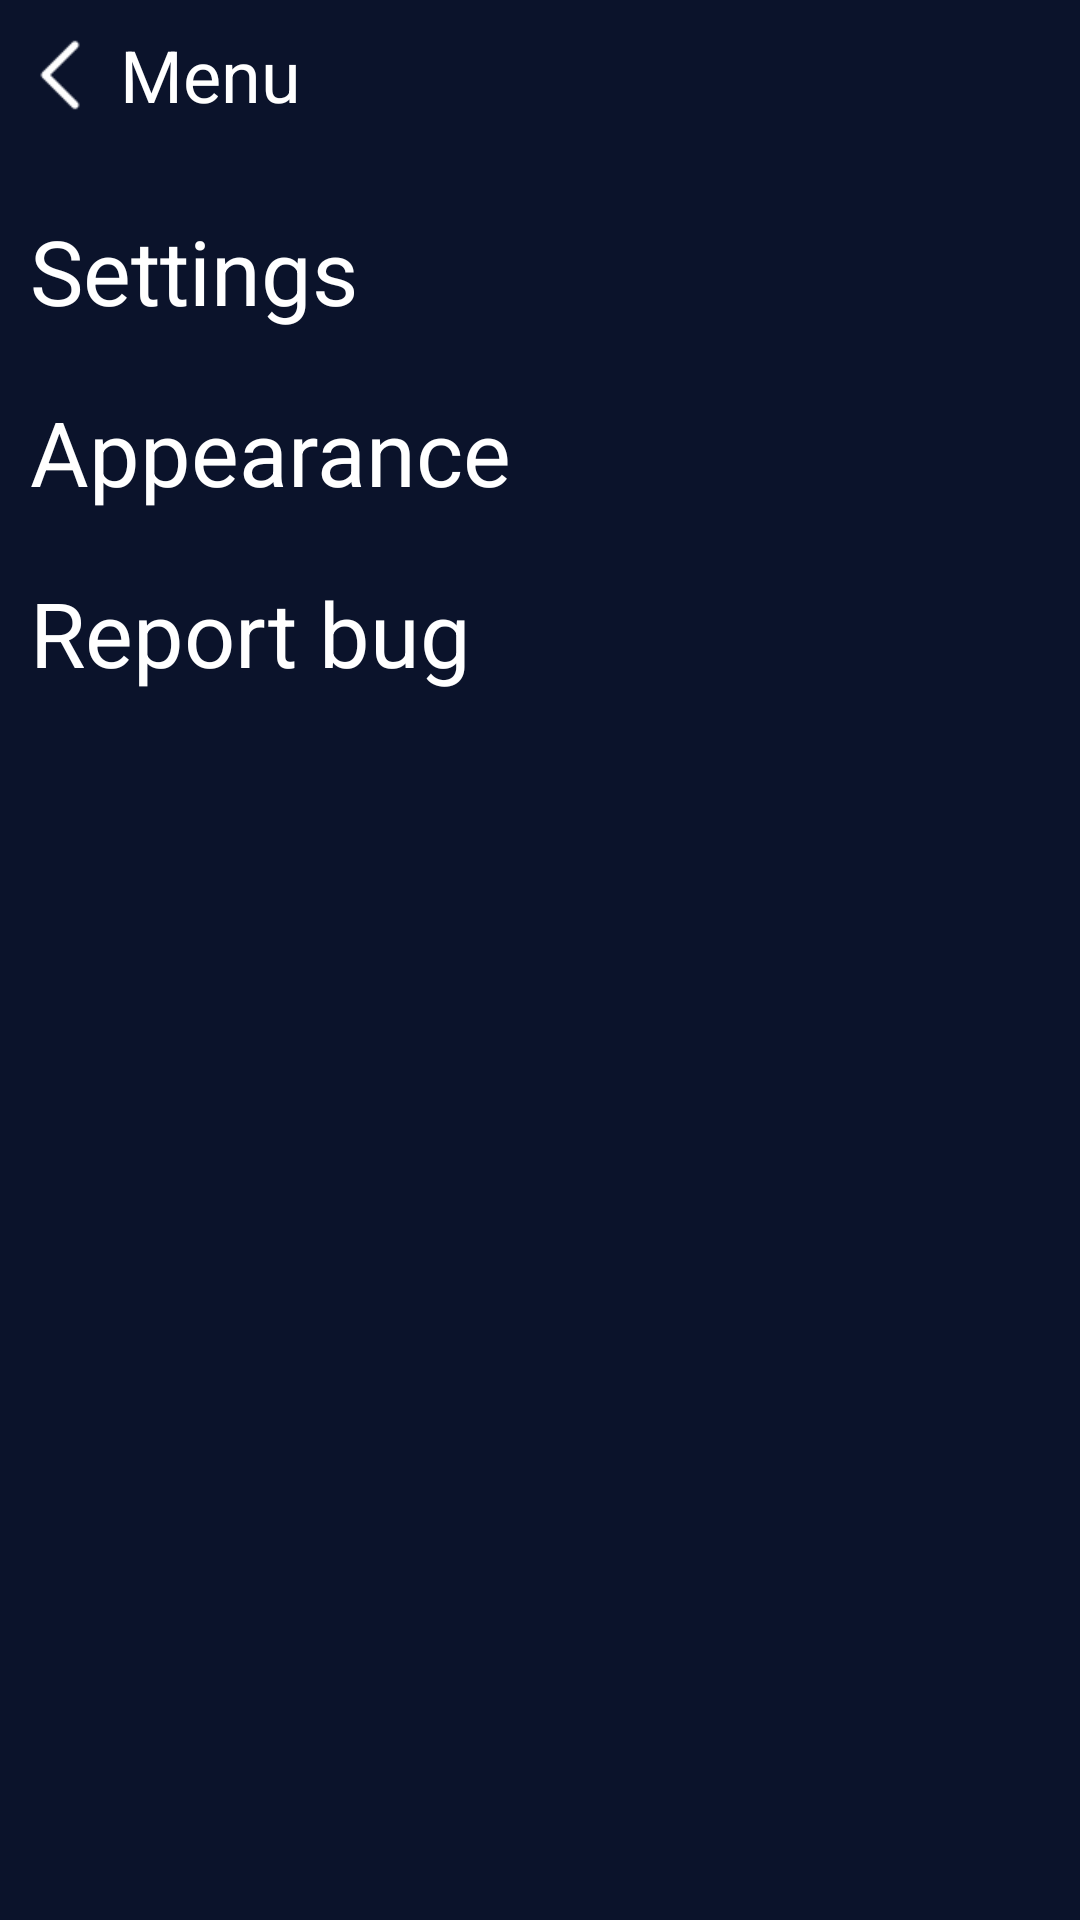

Where to tap for icons on this 1080w x 1920h app screen, as point (x, y):
back: point (60, 75)
